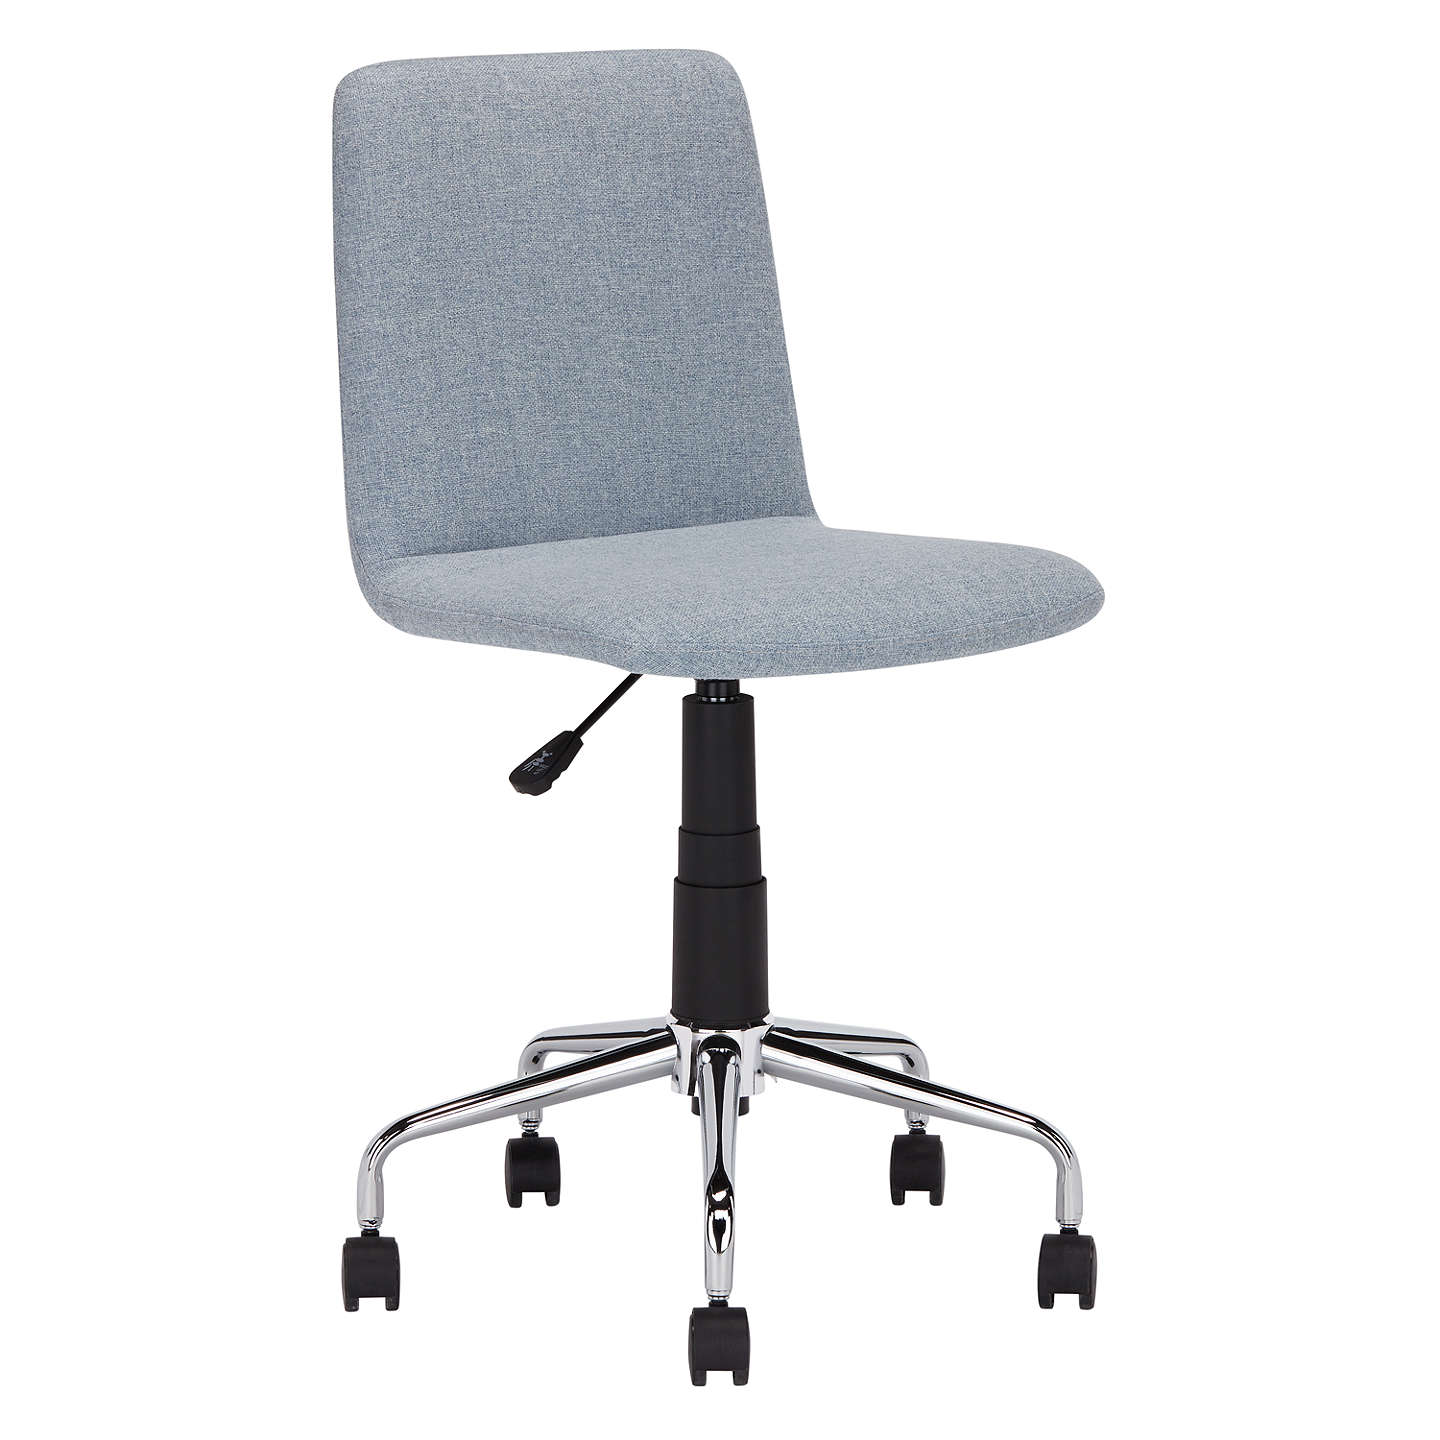chairs: (264, 50, 1134, 1385)
